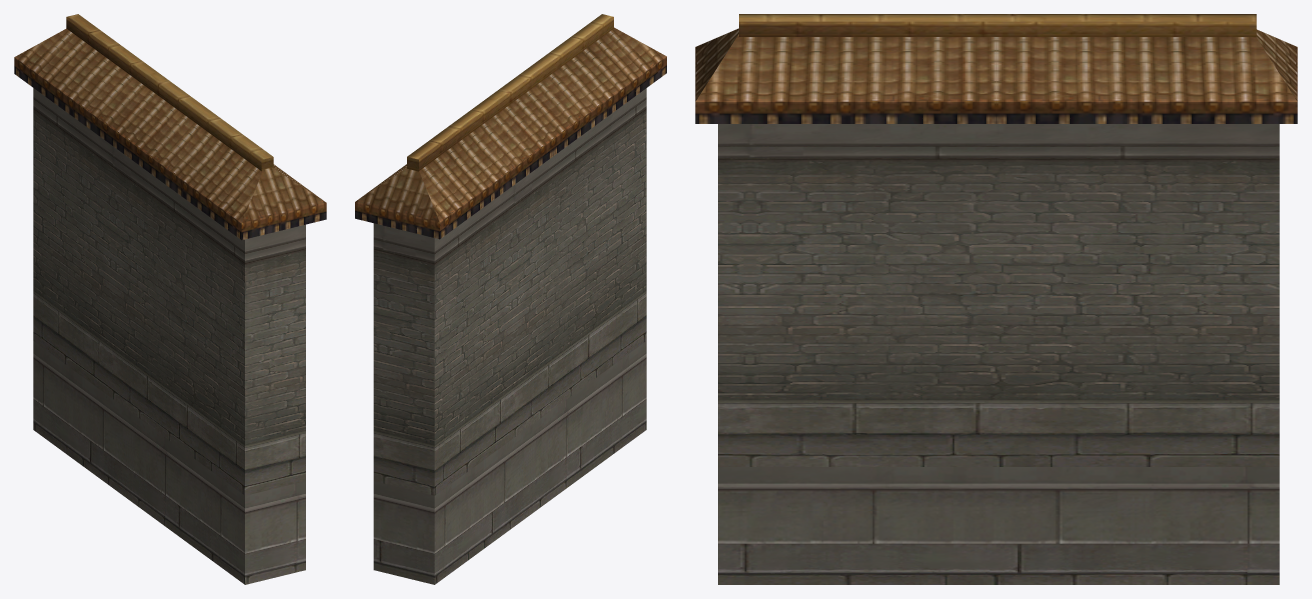
Rendered from s7_jianzhu_pingtai002.FBX.
The picture shows the model from 3 angles, left to right: view 1: azimuth 30°, elevation 25°; view 2: azimuth 150°, elevation 25°; view 3: azimuth 270°, elevation 25°; orthographic projection. The views are drawn at different scales.
Visible parts, largest first — view 1: s7_jianzhu_pingtai002, Shape003; view 2: s7_jianzhu_pingtai002, Shape003; view 3: s7_jianzhu_pingtai002, Shape003.
Boxes of the visible parts, left/top/right/bottom form: s7_jianzhu_pingtai002: left=33, top=88, right=305, bottom=584; Shape003: left=14, top=14, right=326, bottom=240; s7_jianzhu_pingtai002: left=373, top=88, right=646, bottom=584; Shape003: left=355, top=14, right=666, bottom=239; s7_jianzhu_pingtai002: left=718, top=124, right=1279, bottom=584; Shape003: left=695, top=14, right=1297, bottom=123.
Size of the model in its own units: 2.5 by 11.62 by 11.59.
